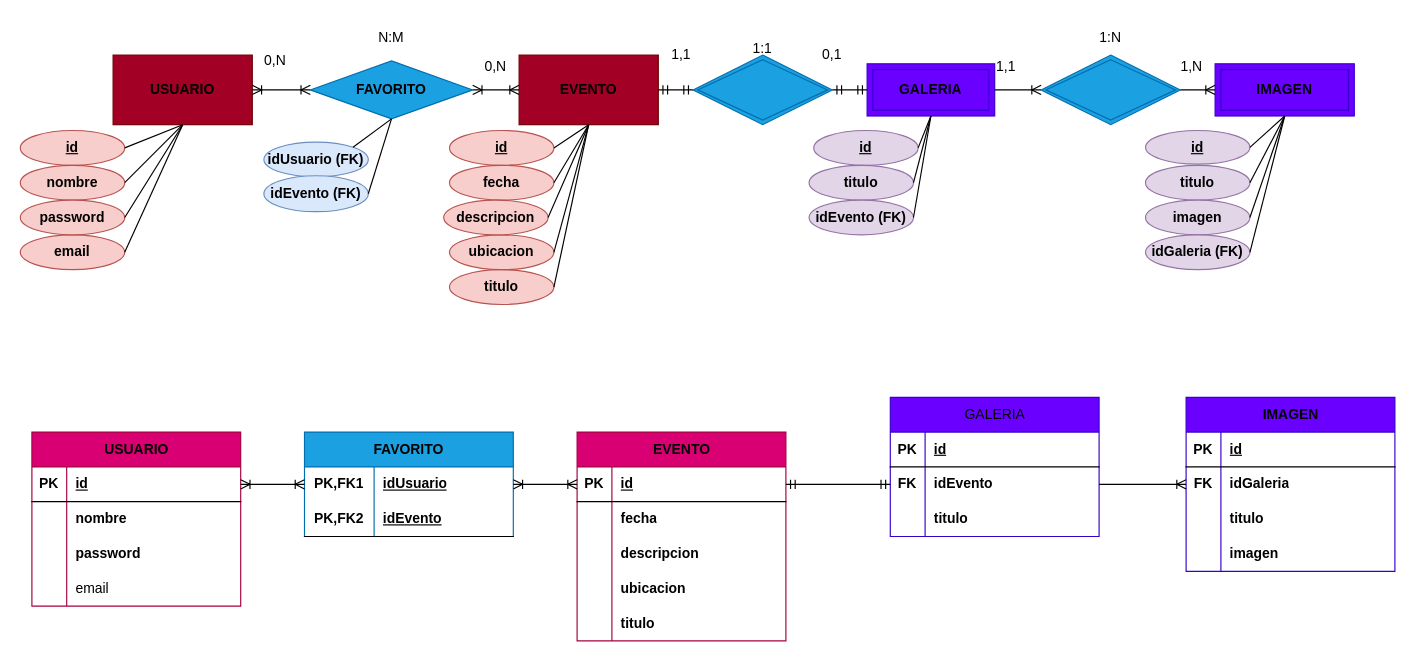
Some shapes in this 1415 by 661 pixel diagram are drawn without their labels. Each missing label, with the centre of its shape:
"CONTIENE" goes at point 1110,89.
"TIENE" goes at point 762,89.
